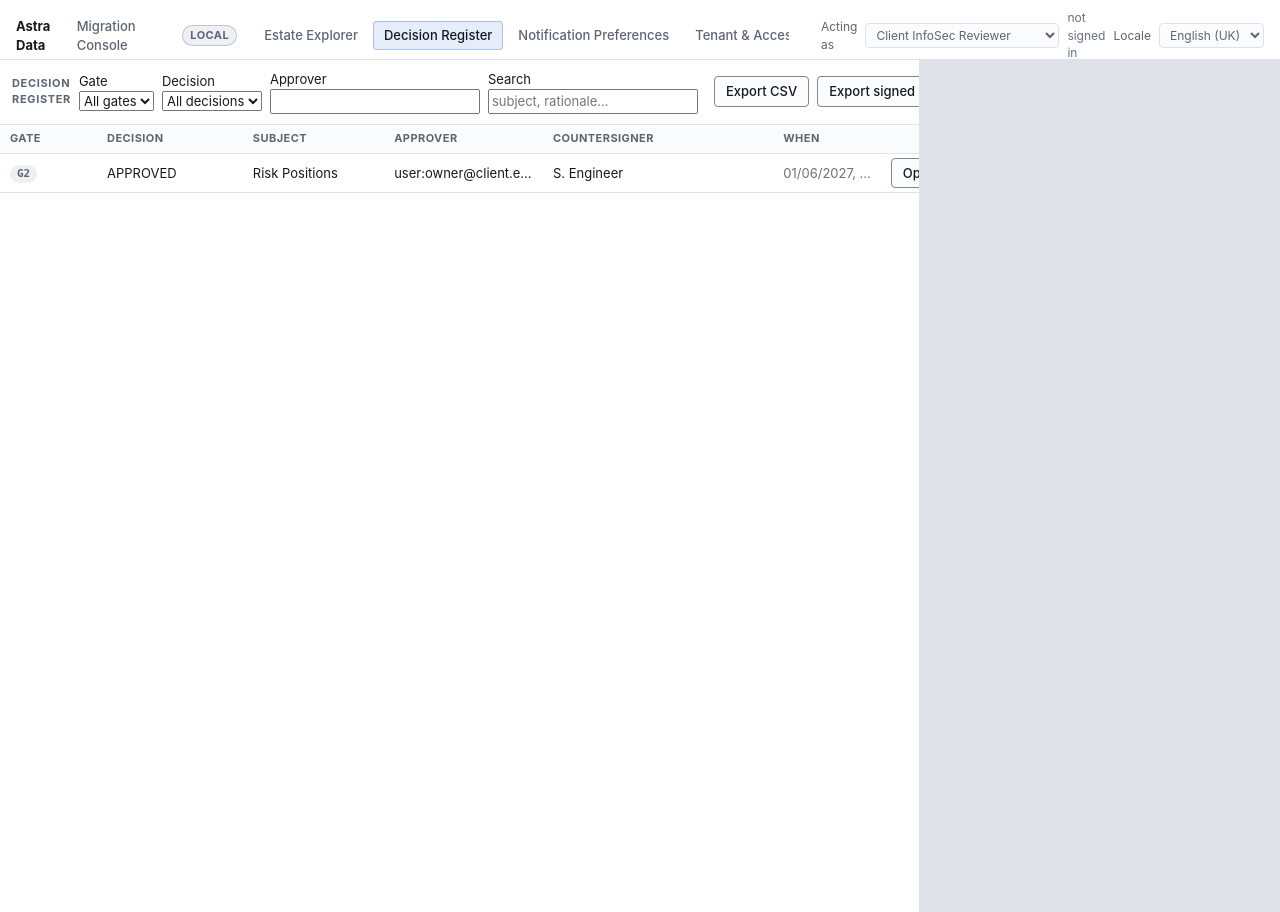
Scenario: locale (story S10.5.1) › changing the shell locale re-renders a downstream screen's own dates
Expected: the text "Risk Positions" is shown, [243,153,384,193]
Expected: the text "01/06/2027, 09:00" is shown, [773,153,881,193]
Select "English (US)" in the dropdown labelled "Locale": {"x": 1212, "y": 36} [1159,23,1264,48]
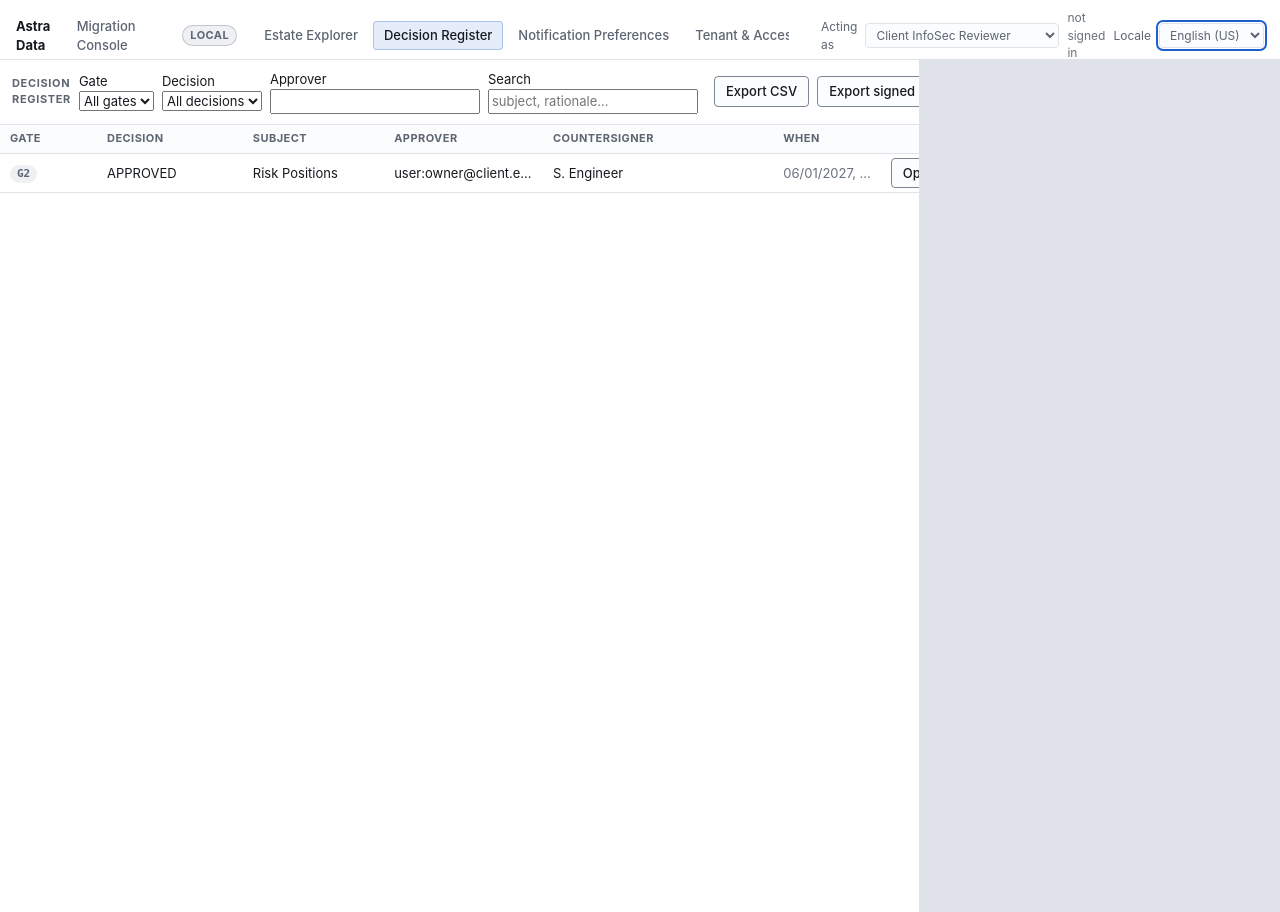
Expected: the text "06/01/2027, 09:00 AM" is shown, [773,153,881,193]
Expected: the text "01/06/2027" is gone
